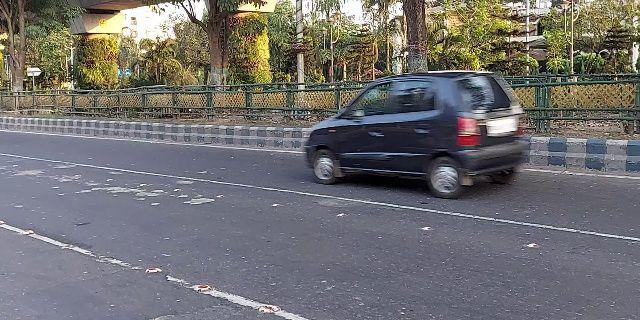Car: (297, 67, 534, 200)
